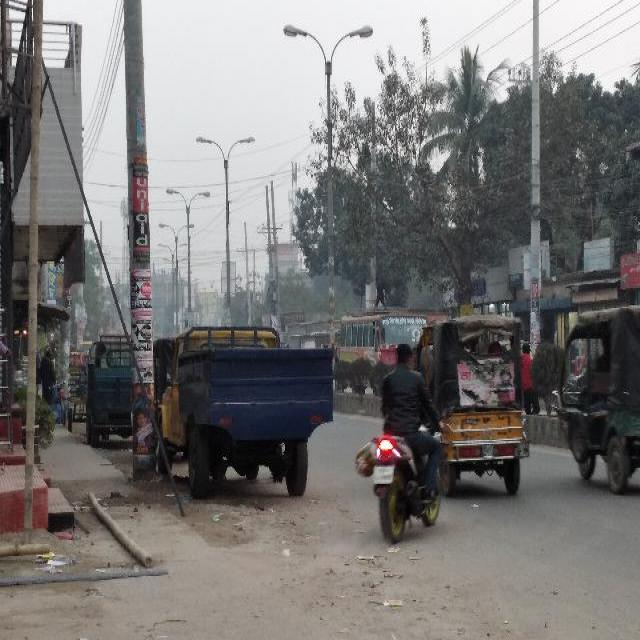bike: (369, 420, 453, 540)
vehicle: (159, 322, 335, 509), (425, 321, 530, 500), (550, 296, 640, 498), (337, 314, 432, 384), (87, 331, 136, 447)
